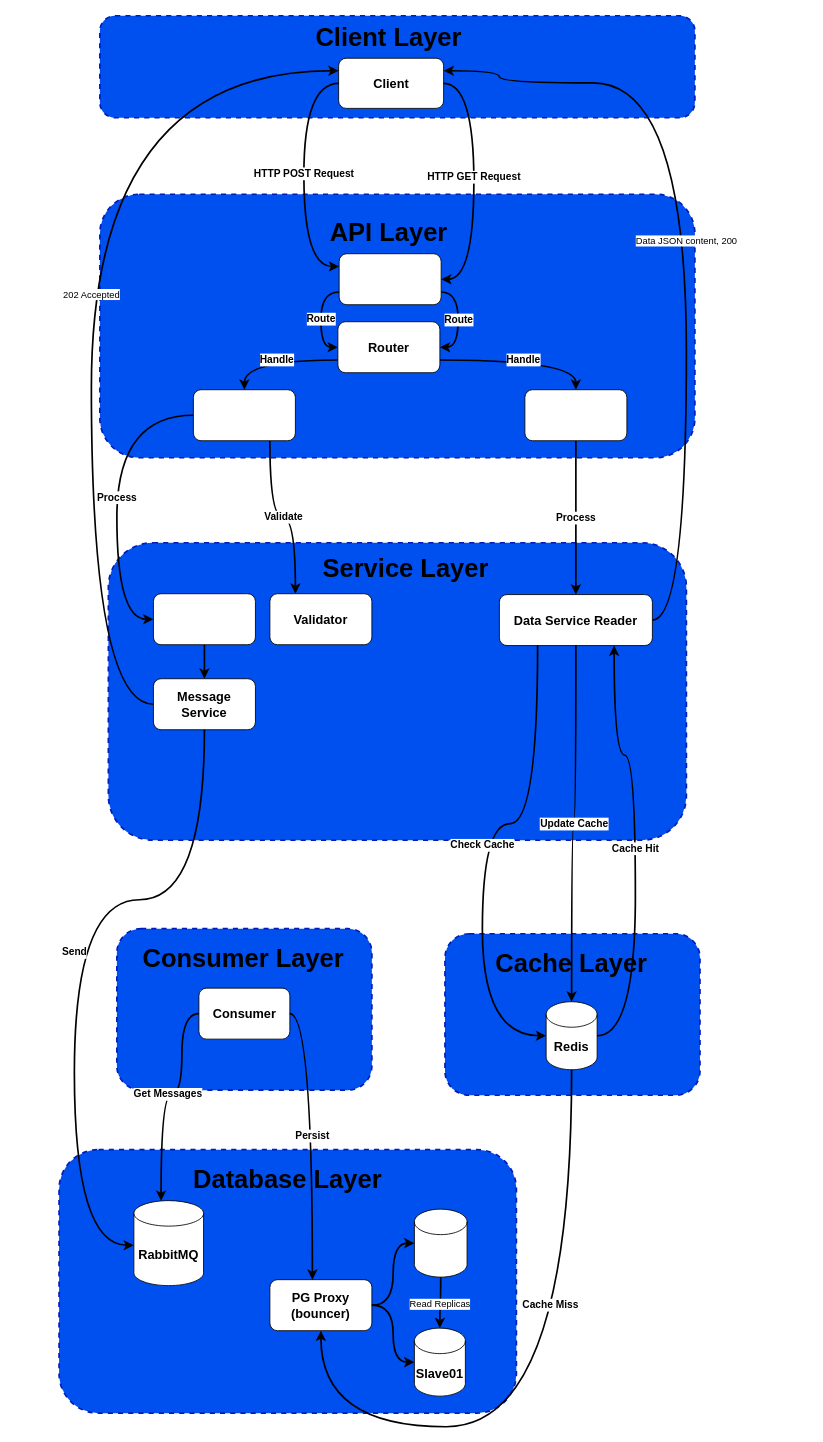
Some shapes in this 823 by 1442 pixel diagram are drawn without their labels. Each missing label, with the box of its shape:
Data Service Producer: (153, 593, 255, 645)
FastAPI Application: (338, 253, 441, 305)
GET /data: (524, 389, 627, 441)
PG Master: (414, 1208, 467, 1277)
POST /data: (193, 389, 295, 441)
